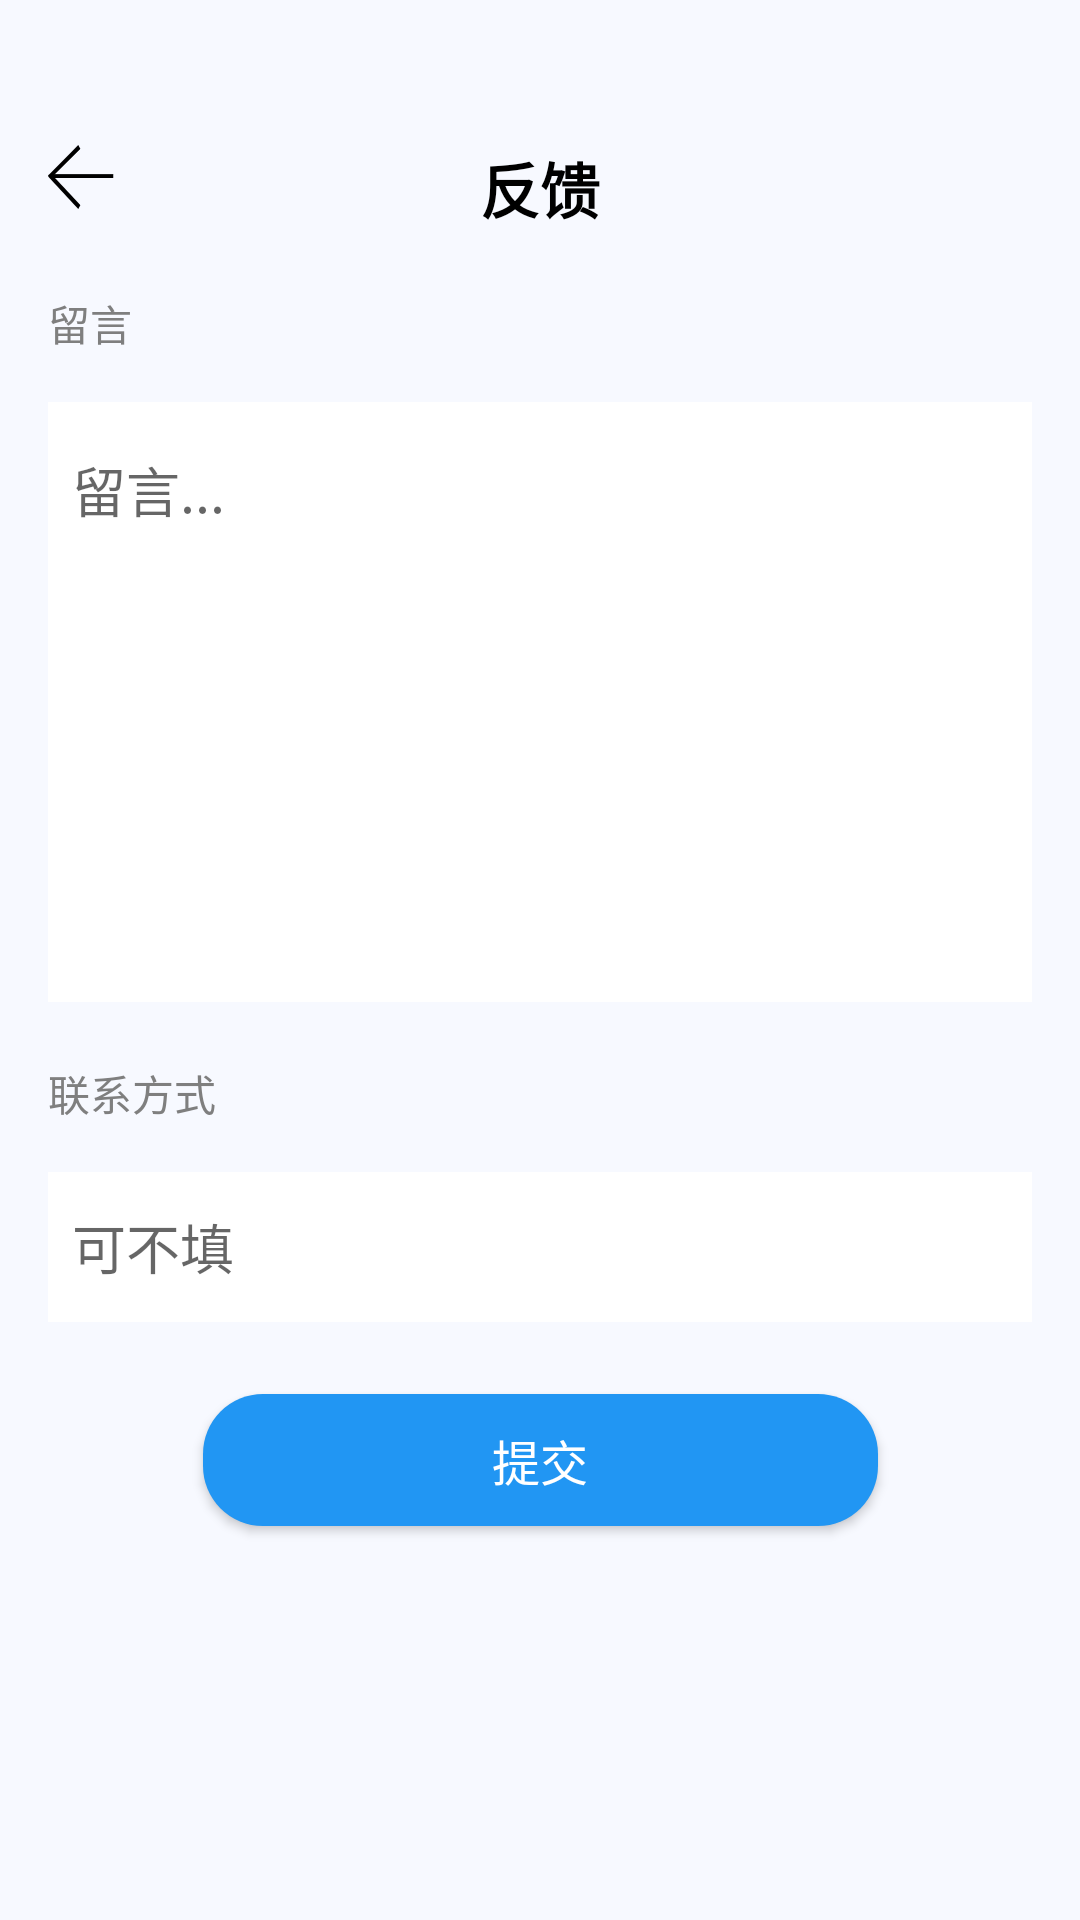

Icon click points for this 1080x1920 phone screenshot, format (x=x, y=y):
back: (x=81, y=177)
